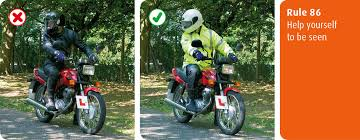helmet: (37, 10, 69, 36), (178, 8, 208, 34)
